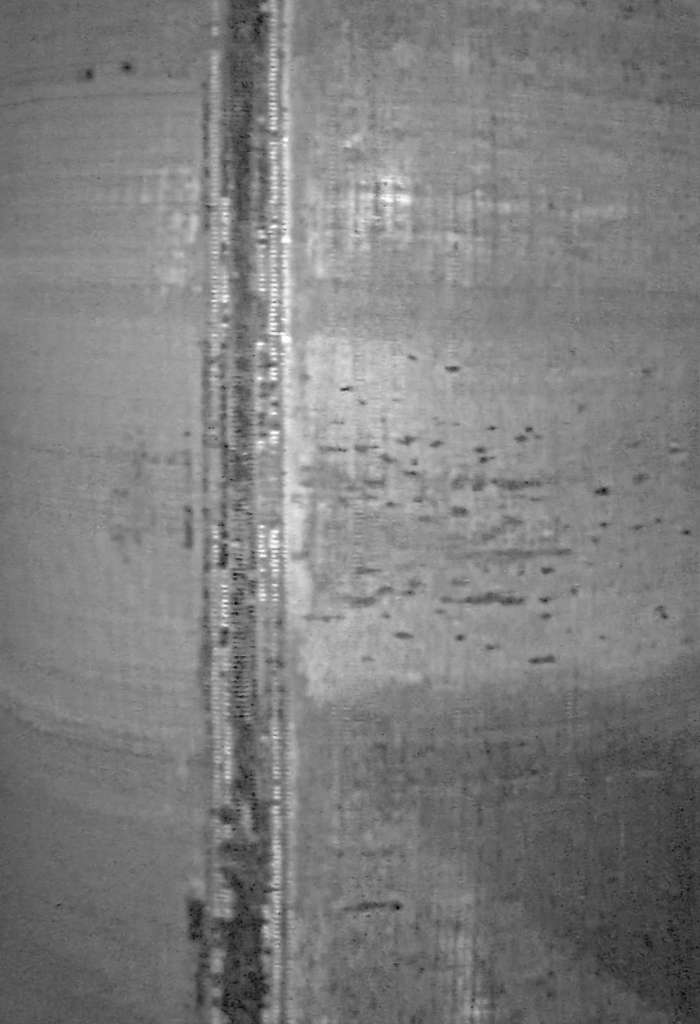splice: (192, 1, 305, 1024)
